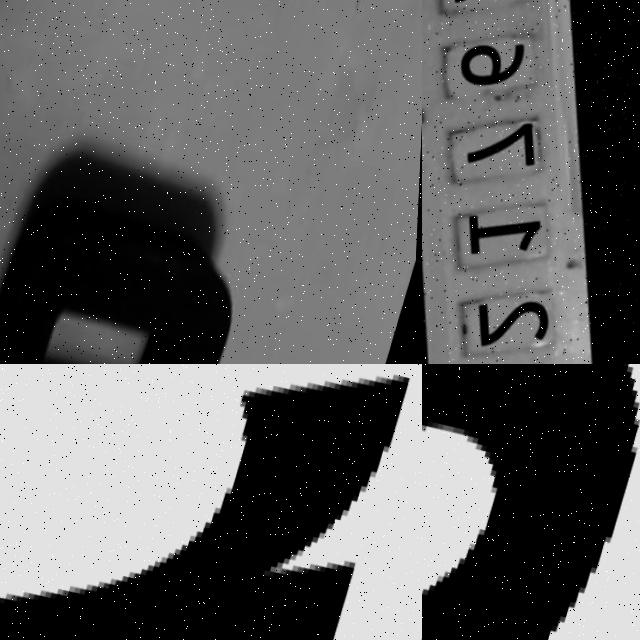1: (447, 183, 574, 291)
2: (452, 270, 586, 364), (427, 0, 548, 35)
6: (432, 14, 561, 121)
7: (439, 98, 568, 208)
O: (422, 364, 640, 640), (0, 183, 261, 364)
R: (0, 364, 422, 640)
